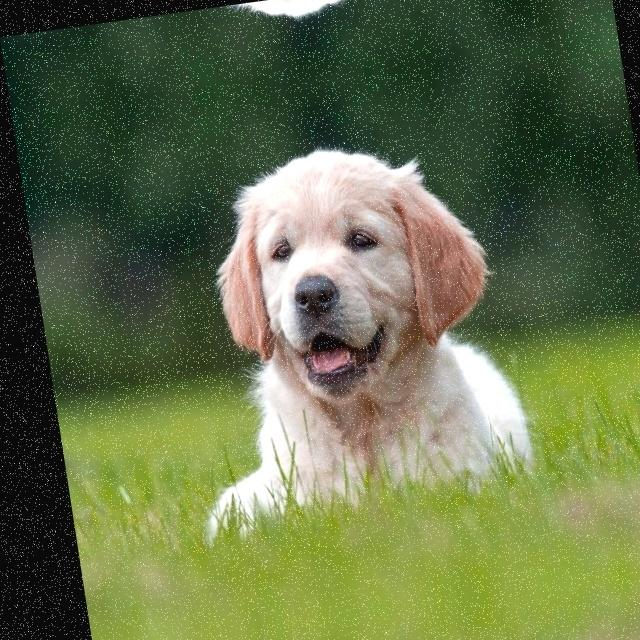dog: (174, 104, 514, 442), (155, 0, 456, 62)
